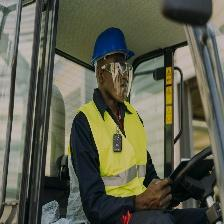Person: (65, 18, 159, 224)
helmet: (92, 27, 133, 73)
vest: (89, 100, 148, 195)
